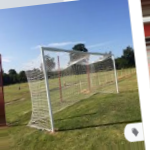goals: (24, 44, 120, 134)
